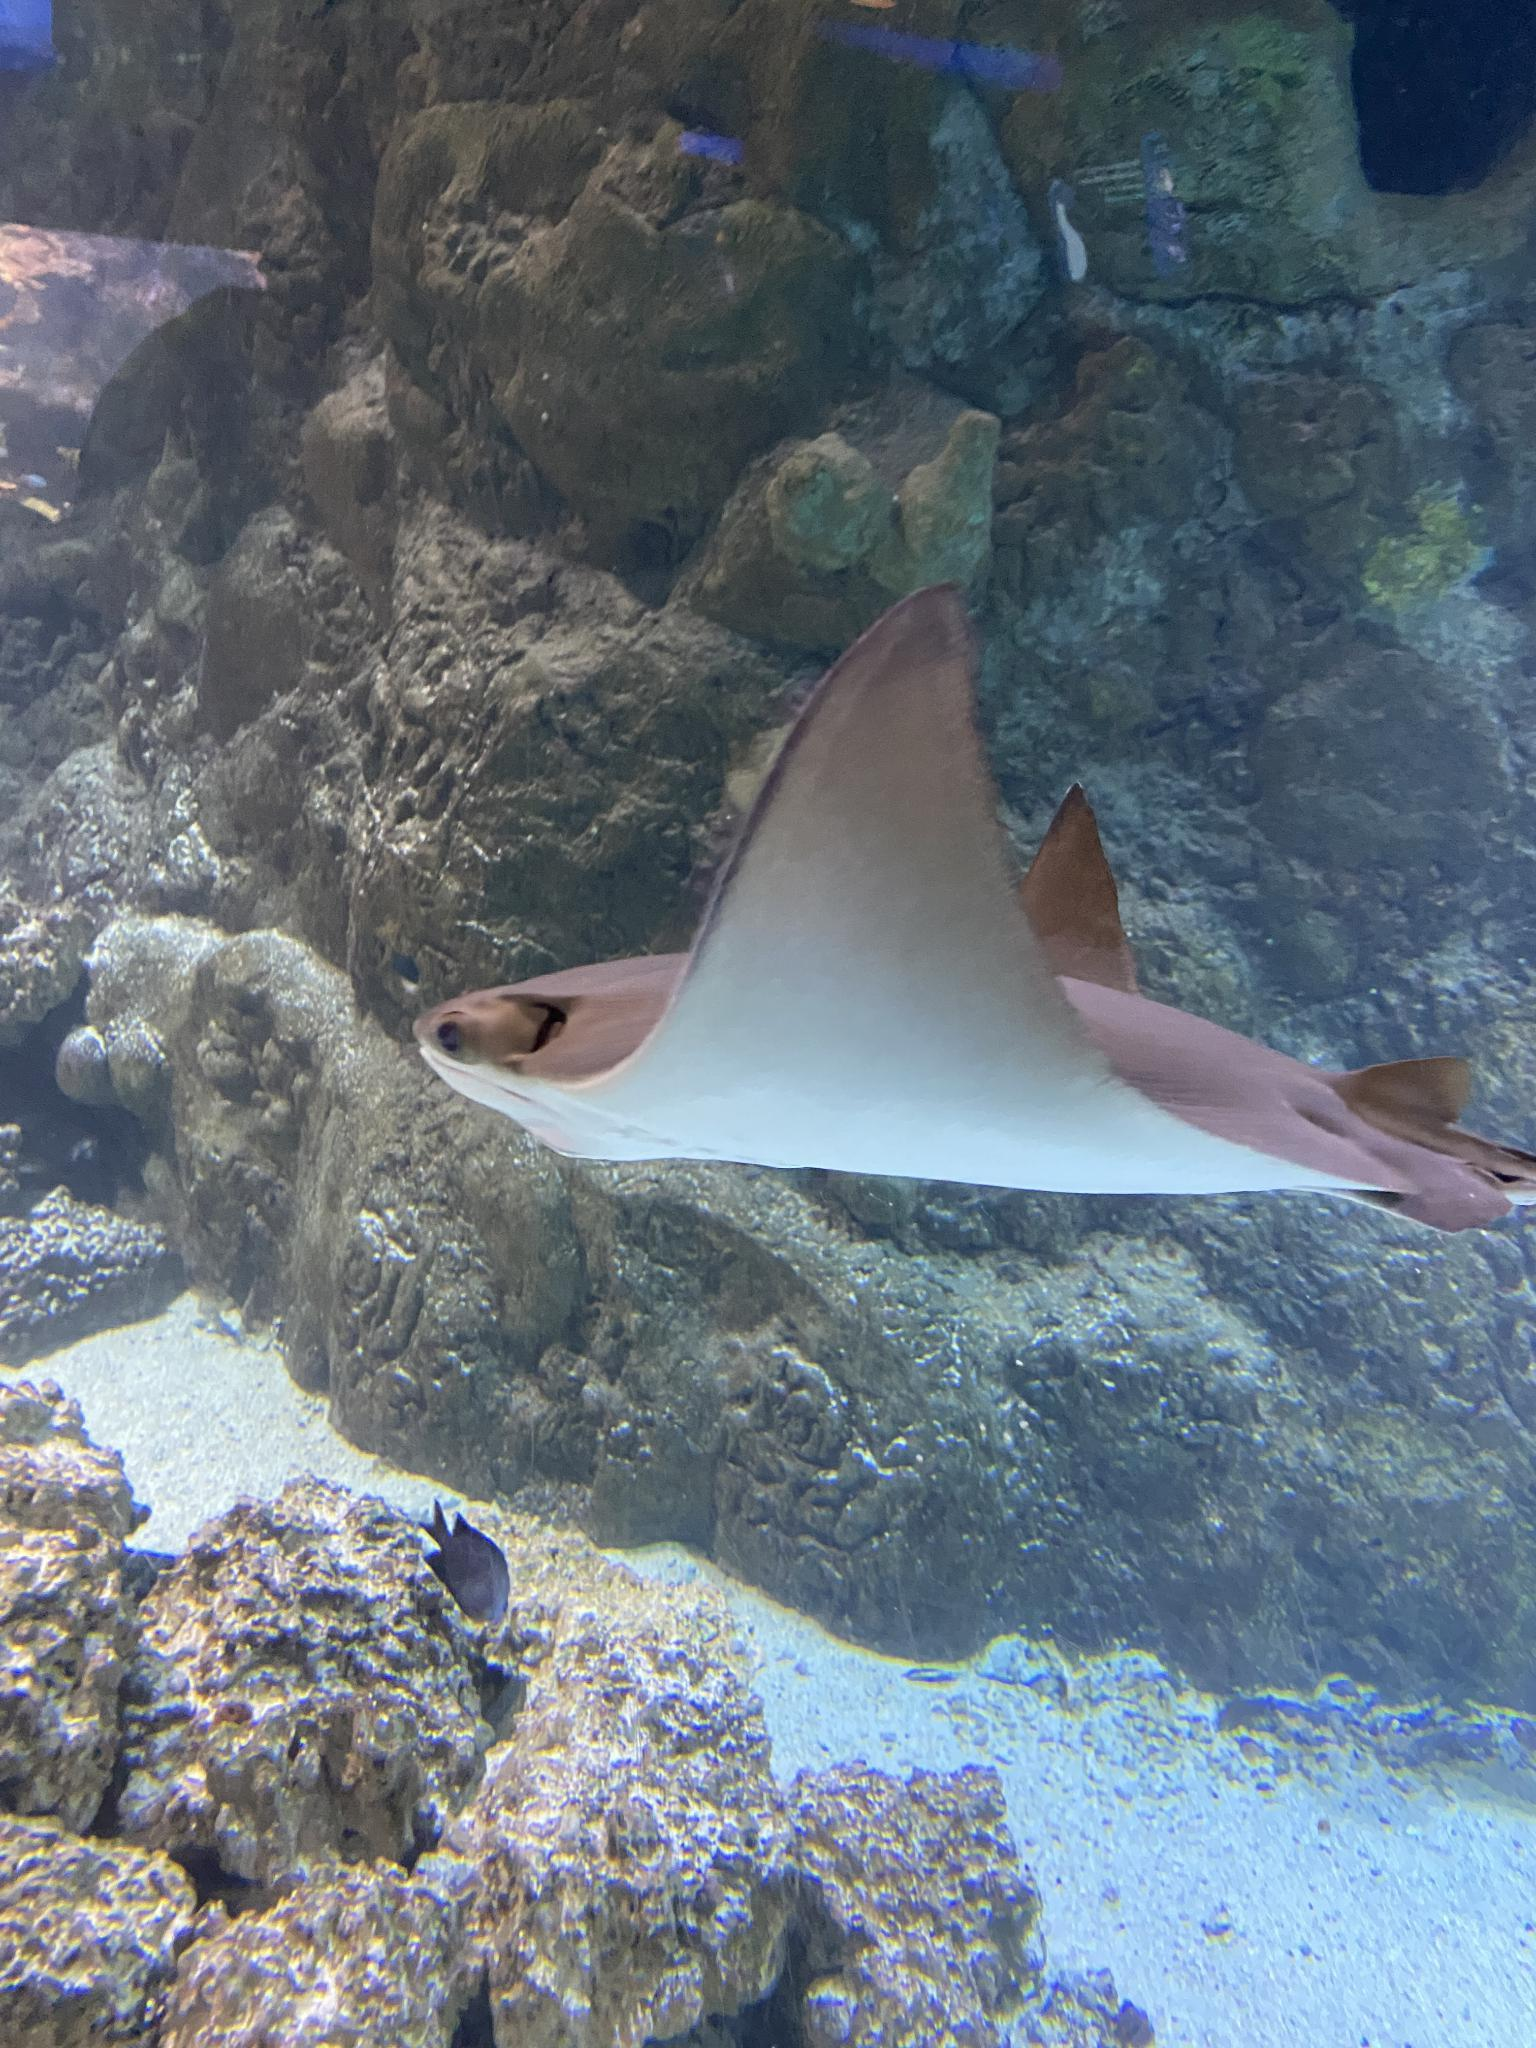fish: (424, 1501, 507, 1616)
stingray: (411, 574, 1533, 1234)
